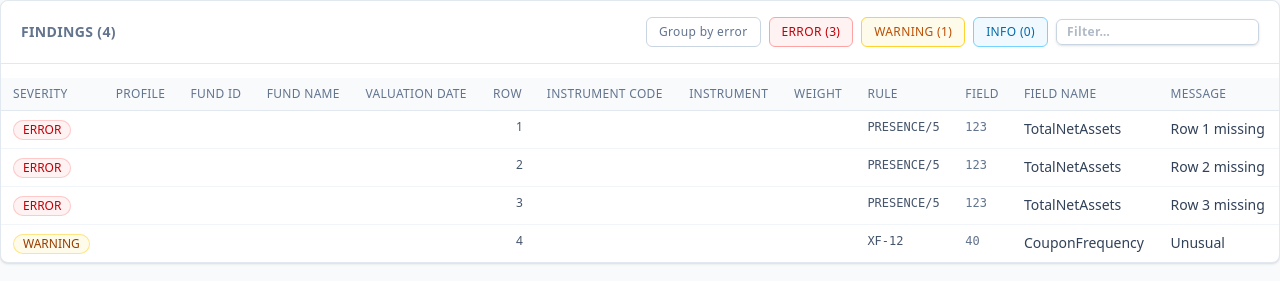
Test: FindingsTable › group by error › collapses identical (severity, rule, field) findings into a single group row with count
Step 1. Click the button "Group by error" → (703, 32), box [646, 17, 760, 47]
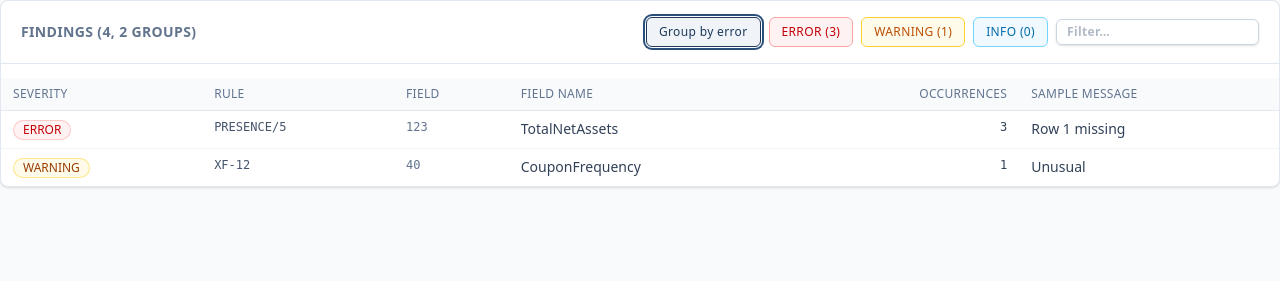
Expected: the text "3" is shown, [796, 110, 1019, 148]
Now the text "PRESENCE/5" is shown once, box [202, 110, 394, 148]
Now the column heading "Occurrences" is shown, box [796, 78, 1019, 110]
